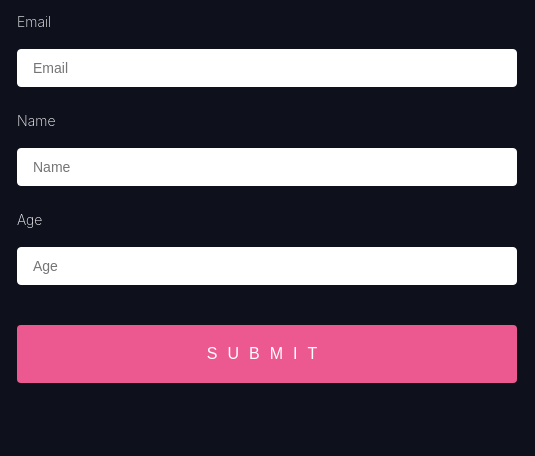
Scenario: test age field › should show error when age field empty
In the number field with placeholder "Age": (267, 266) [17,247,517,285], type "22"
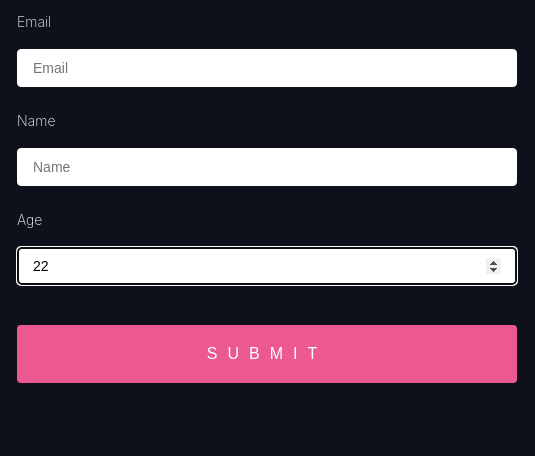
Clear the number field with placeholder "Age": (267, 266) [17,247,517,285]
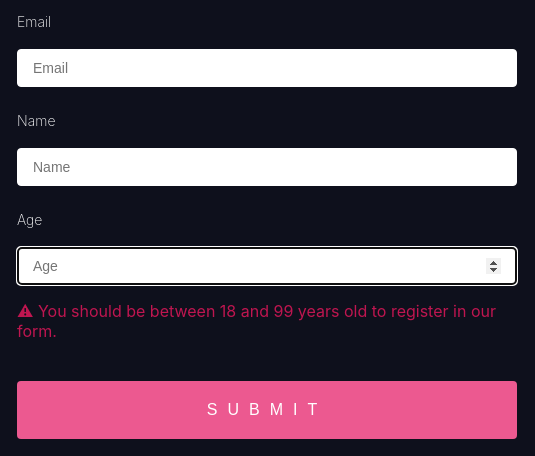
Now the text with class "error-message" is shown, box [17,301,517,341]
